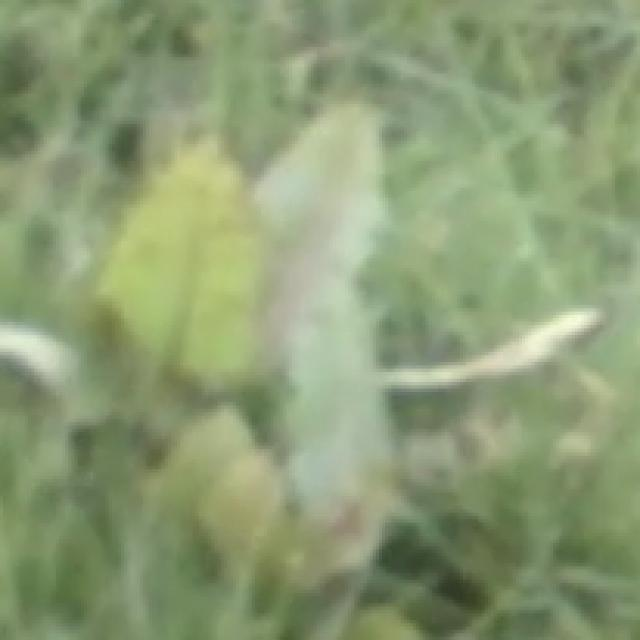organic waste: (41, 93, 617, 581)
